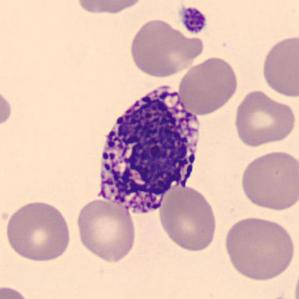Basophil: (90, 77, 208, 220)
Platelets: (178, 4, 208, 36)
RBC: (221, 214, 297, 283), (126, 17, 206, 79), (3, 198, 74, 263), (73, 196, 139, 265), (157, 183, 219, 253), (237, 148, 298, 213), (231, 88, 297, 148), (176, 55, 240, 116), (259, 33, 298, 99), (73, 0, 148, 15), (0, 86, 14, 131), (0, 283, 32, 299), (292, 255, 299, 299)
